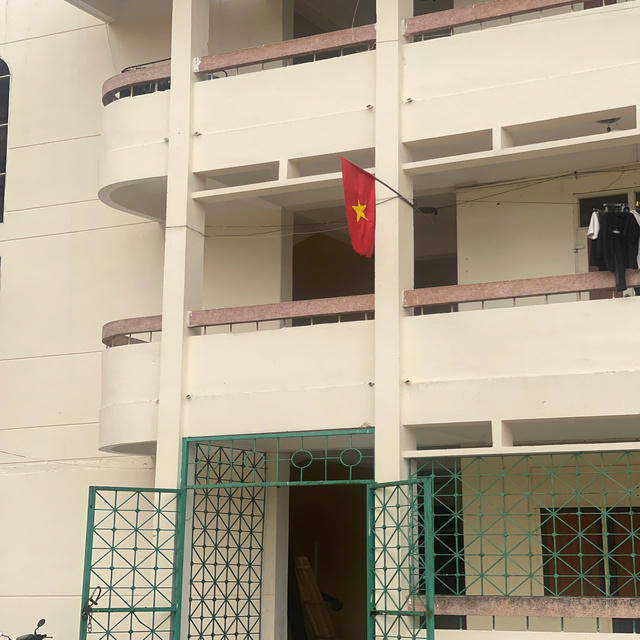laco: (329, 148, 398, 266)
